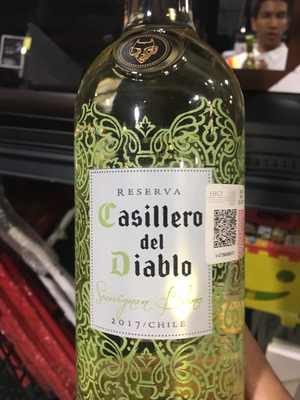casillero del diablo sauvignon blanc: (64, 4, 265, 400)
